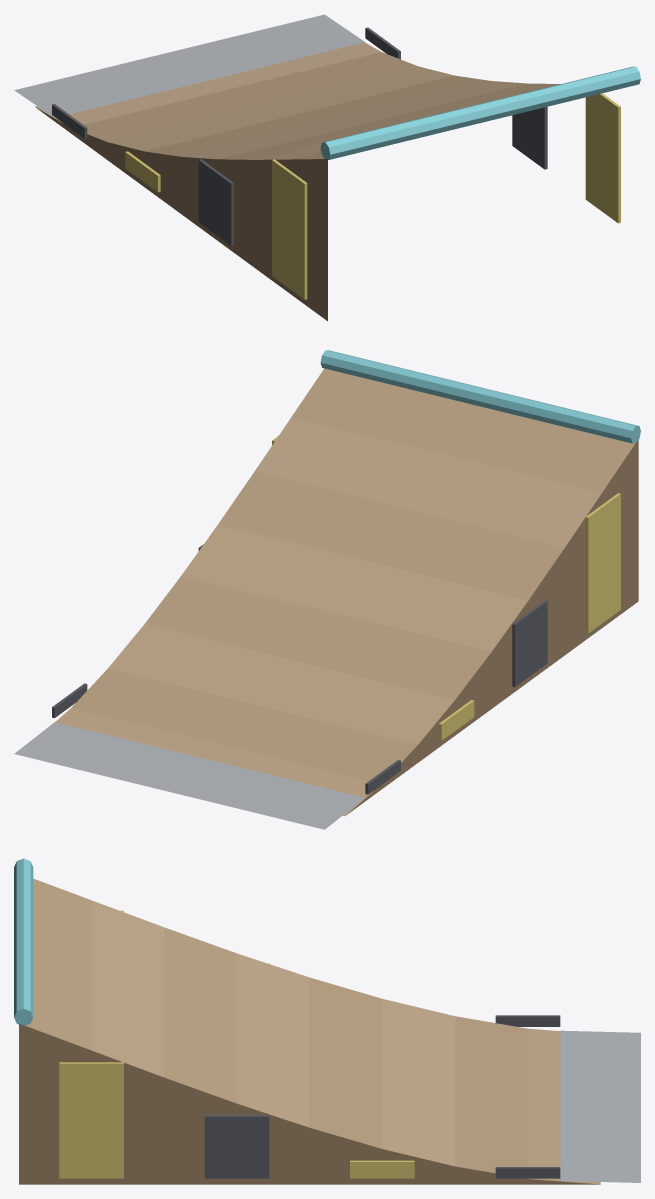
File: noturno-ramp.glb
3 views of the same model, one above another, from view 1: azimuth 30°, elevation 25°; view 2: azimuth 150°, elevation 25°; view 3: azimuth 270°, elevation 25° (orthographic).
Size of the model in its own units: 2.24 by 1.2 by 3.88.
